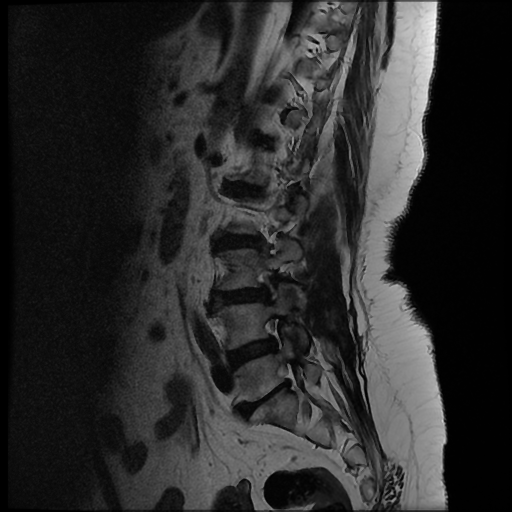LFS1: (255, 309, 298, 362)
LFS3: (243, 258, 293, 312)
